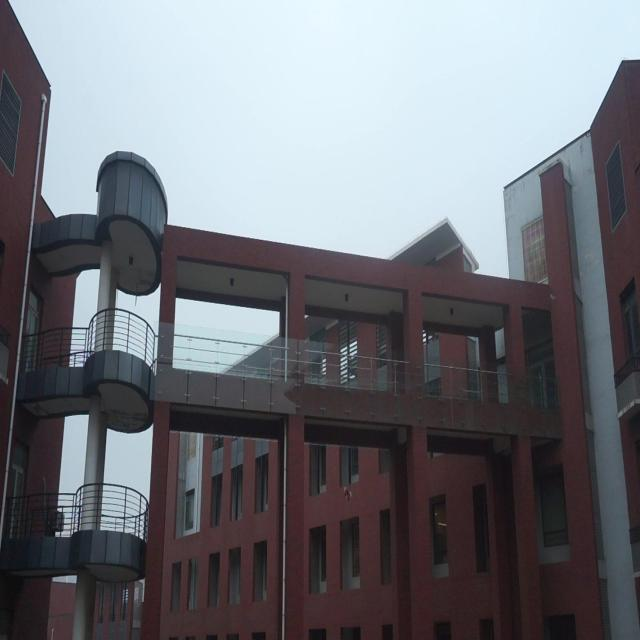drone: (340, 482, 356, 501)
